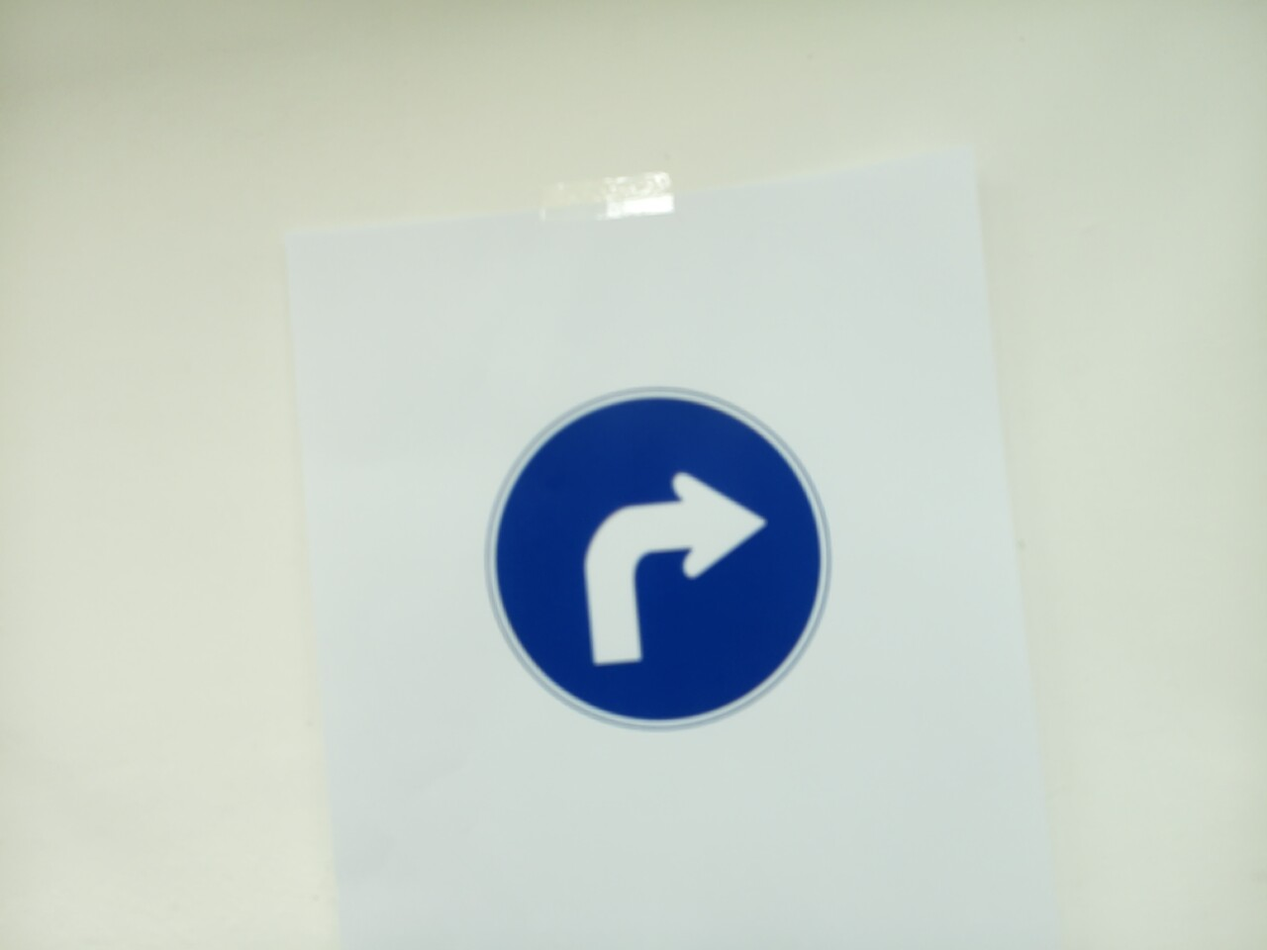right_turn: (486, 387, 830, 730)
